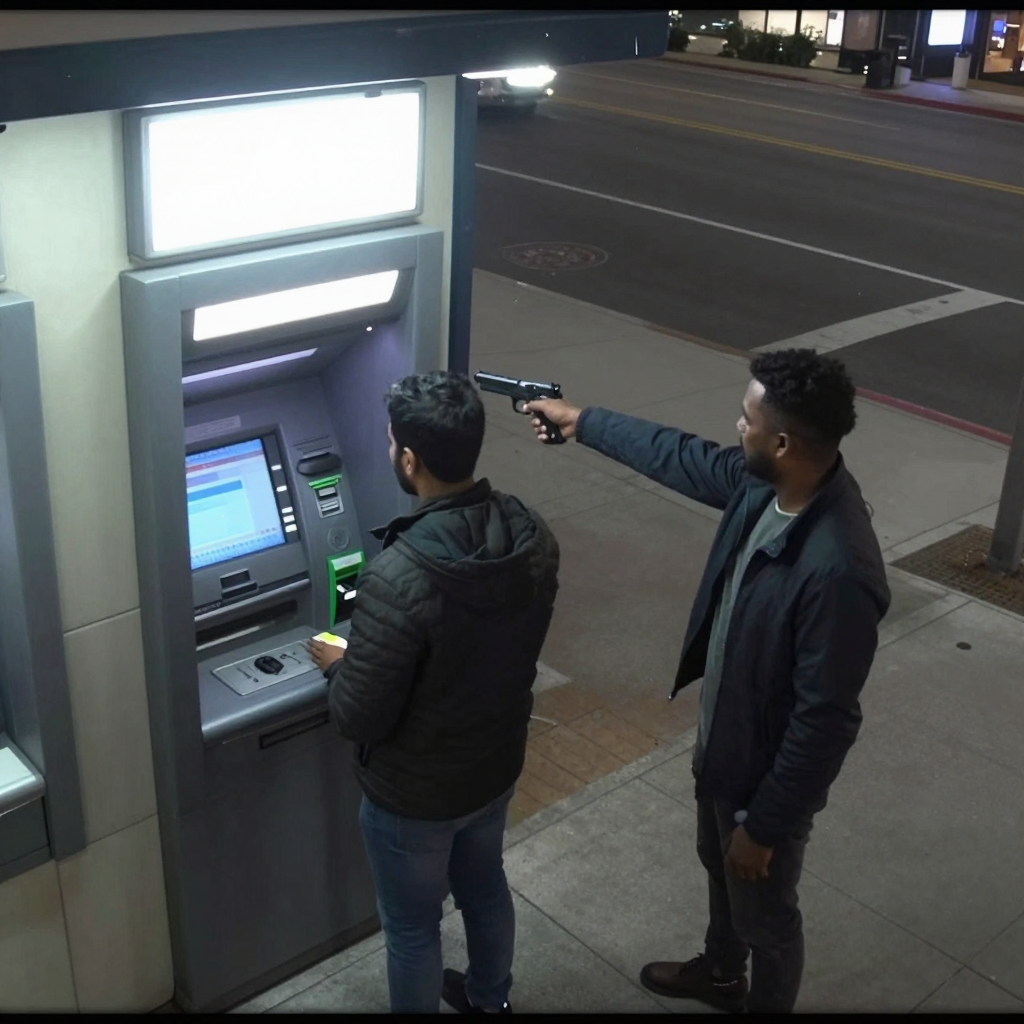Robbery: (522, 347, 893, 1013), (306, 368, 561, 1015)
Shooting: (474, 372, 565, 445)
